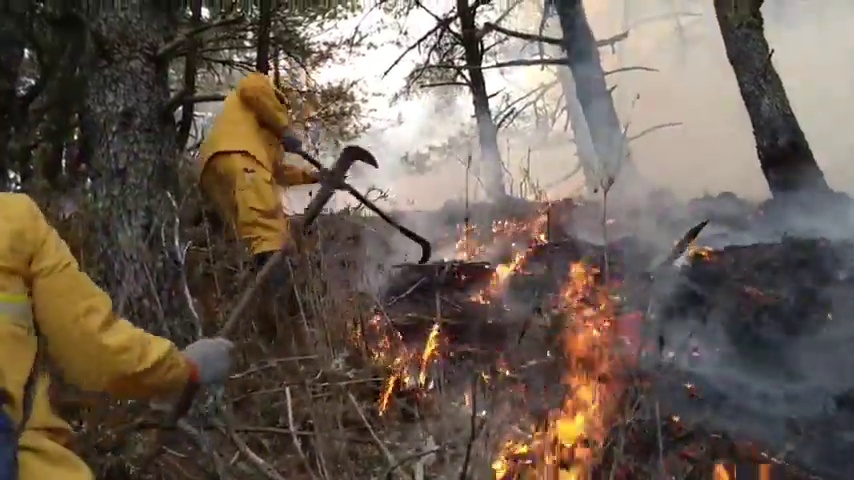fire: (494, 260, 608, 480), (416, 326, 443, 385), (376, 375, 396, 413), (493, 261, 512, 281), (711, 462, 730, 480)
